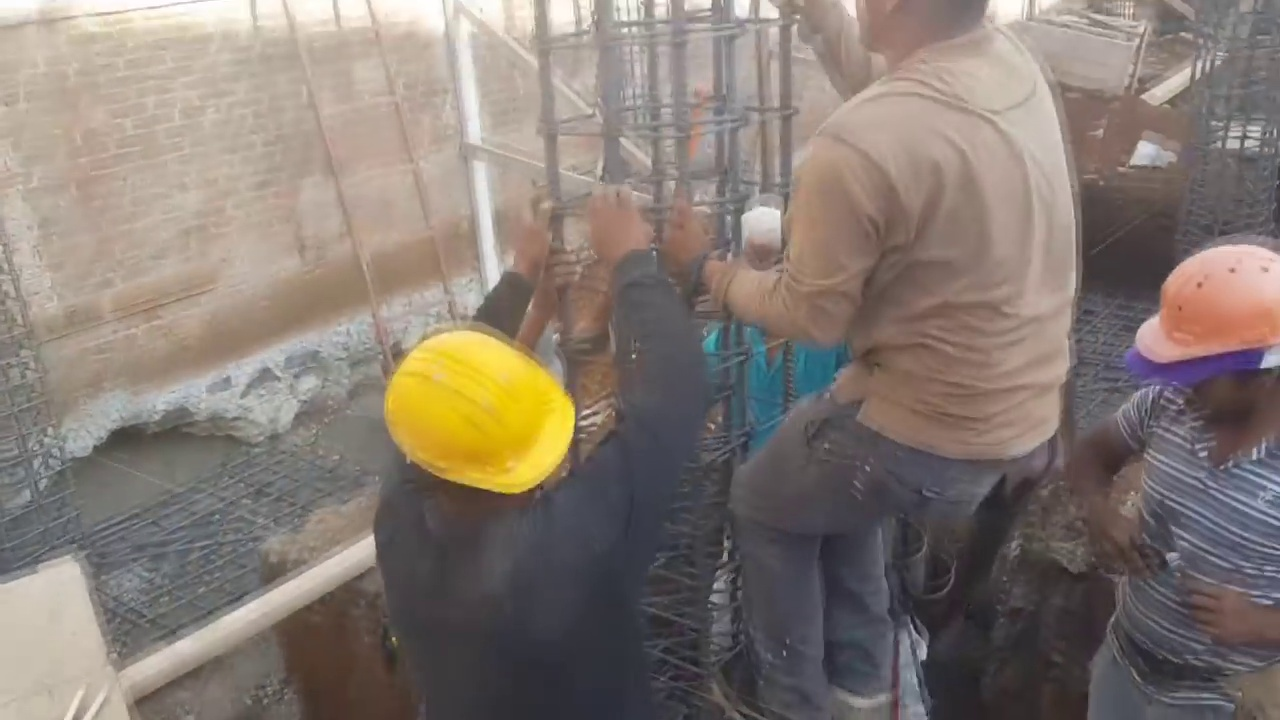helmet: (380, 324, 573, 514), (1130, 245, 1280, 389)
helmet-on: (379, 317, 577, 563), (1128, 245, 1280, 466)
person: (699, 0, 1110, 720), (338, 182, 668, 720), (1059, 238, 1280, 720), (696, 203, 845, 467)
